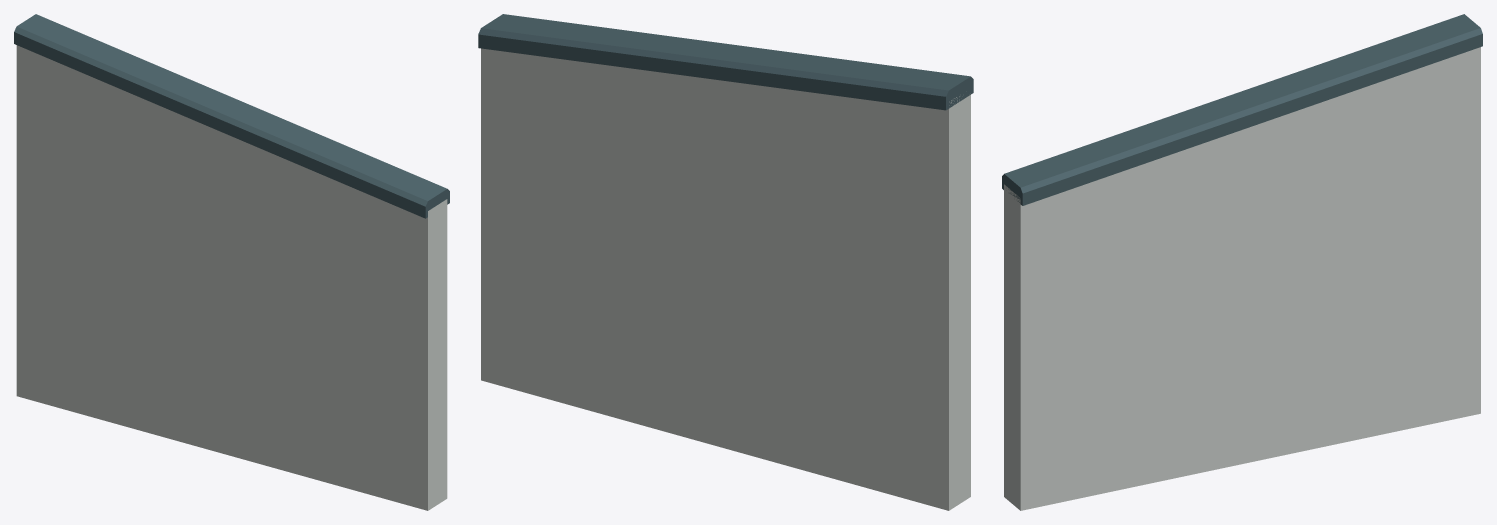
File: halfwall_26_starboard_rise_1.glb
The picture shows the model from 3 angles, left to right: view 1: azimuth 30°, elevation 25°; view 2: azimuth 210°, elevation 25°; view 3: azimuth 270°, elevation 25°; orthographic projection. The views are drawn at different scales.
Parts seen in each view (by area): view 1: Seamless solid halfwall.011, Seamless top cap.011; view 2: Seamless solid halfwall.011, Seamless top cap.011; view 3: Seamless solid halfwall.011, Seamless top cap.011.
Part boxes in pixels (bbox=[...]): Seamless solid halfwall.011: bbox=[16, 45, 447, 510]; Seamless top cap.011: bbox=[14, 14, 449, 218]; Seamless solid halfwall.011: bbox=[481, 48, 970, 510]; Seamless top cap.011: bbox=[478, 14, 973, 110]; Seamless solid halfwall.011: bbox=[1004, 47, 1480, 510]; Seamless top cap.011: bbox=[1002, 14, 1482, 205].
Size of the model in its own units: 0.5894 by 0.925 by 1.04.
